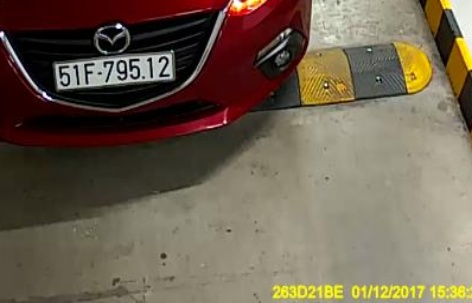plate: (49, 54, 177, 90)
